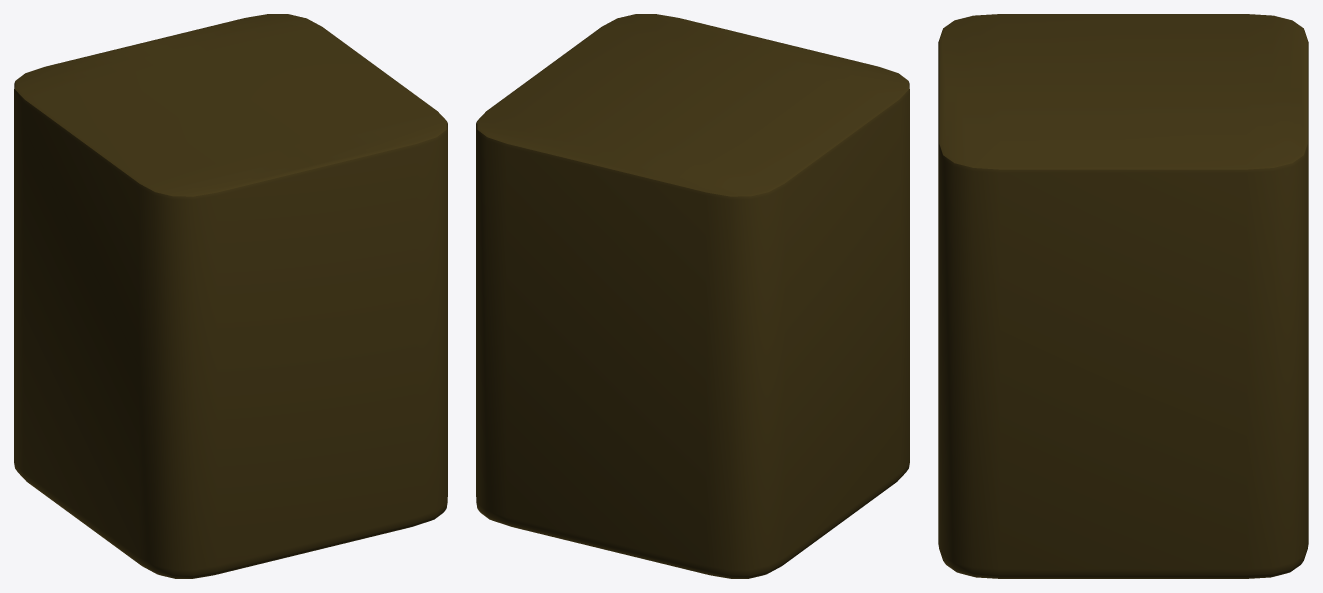
The model's file is BottleFilling_1_charcoal.fbx.
3 renders of one model, left to right at view 1: azimuth 30°, elevation 25°; view 2: azimuth 150°, elevation 25°; view 3: azimuth 270°, elevation 25°, orthographic. The views are drawn at different scales.
Parts seen in each view (by area): view 1: BottleFilling_1_charcoal001; view 2: BottleFilling_1_charcoal001; view 3: BottleFilling_1_charcoal001.
Boxes of the visible parts, bbox=[...] form: BottleFilling_1_charcoal001: bbox=[14, 14, 447, 578]; BottleFilling_1_charcoal001: bbox=[476, 14, 909, 578]; BottleFilling_1_charcoal001: bbox=[938, 14, 1308, 578].
Bounding box in the file's own units: 4.92 × 6.08 × 4.92.
